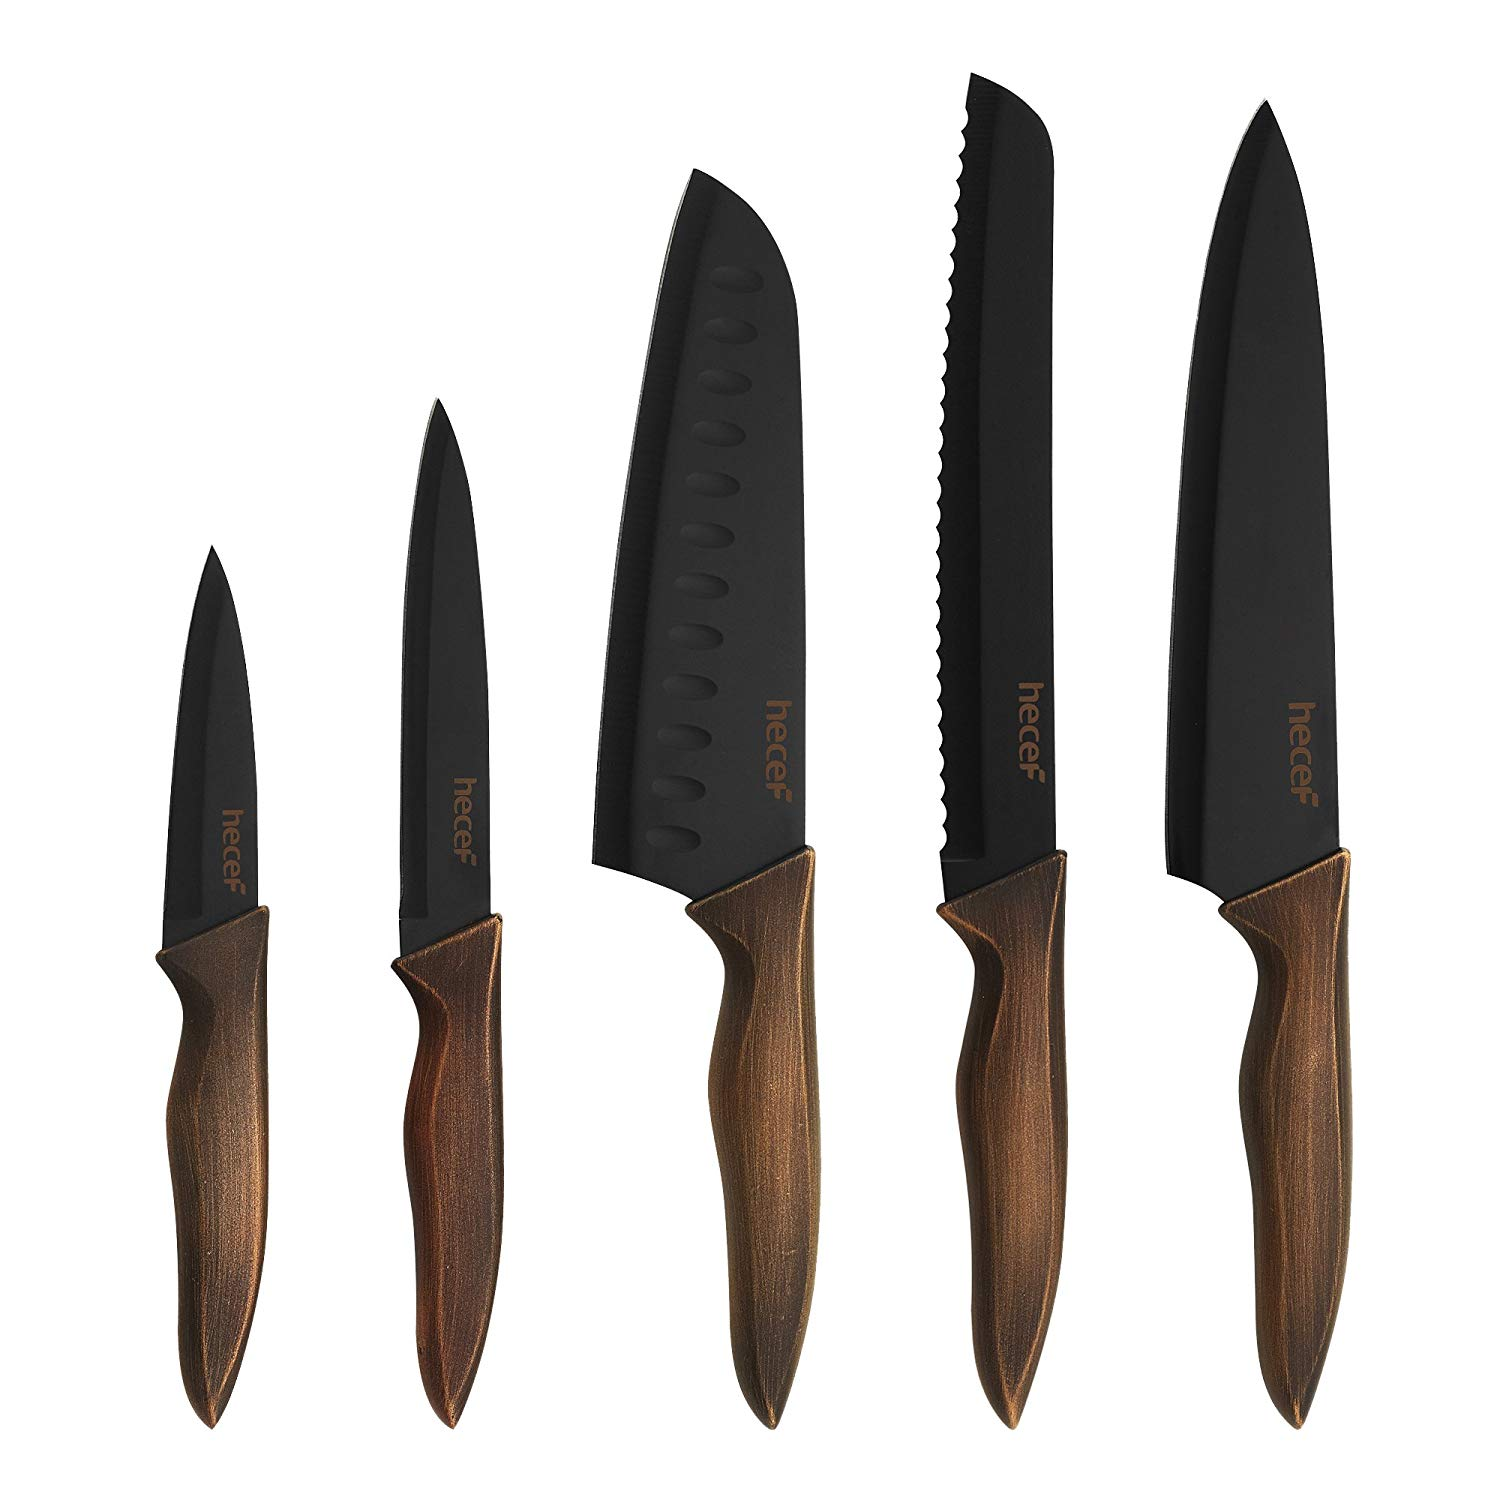knife: (1163, 102, 1363, 1429), (401, 402, 514, 1422), (159, 547, 277, 1431)
